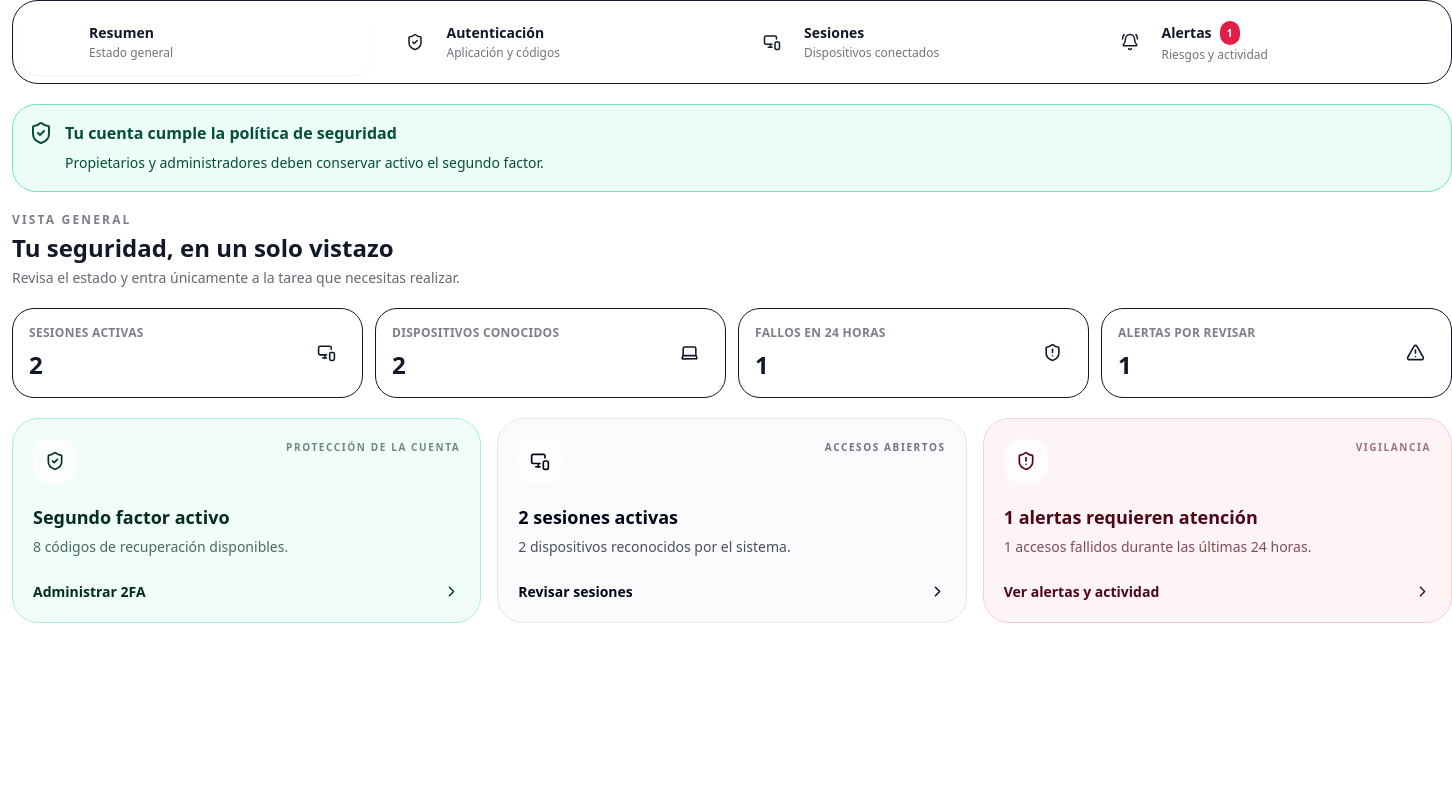
Scenario: Centro de seguridad administrativa Etapa 4 › muestra sesiones, alertas e historial y protege el cierre con reautenticación
The image size is (1452, 810).
Expected: the heading "Tu seguridad, en un solo vistazo" is shown, [12, 231, 394, 264]
Click the button "Sesiones Dispositivos conectados".
click(911, 42)  # box [736, 9, 1086, 75]
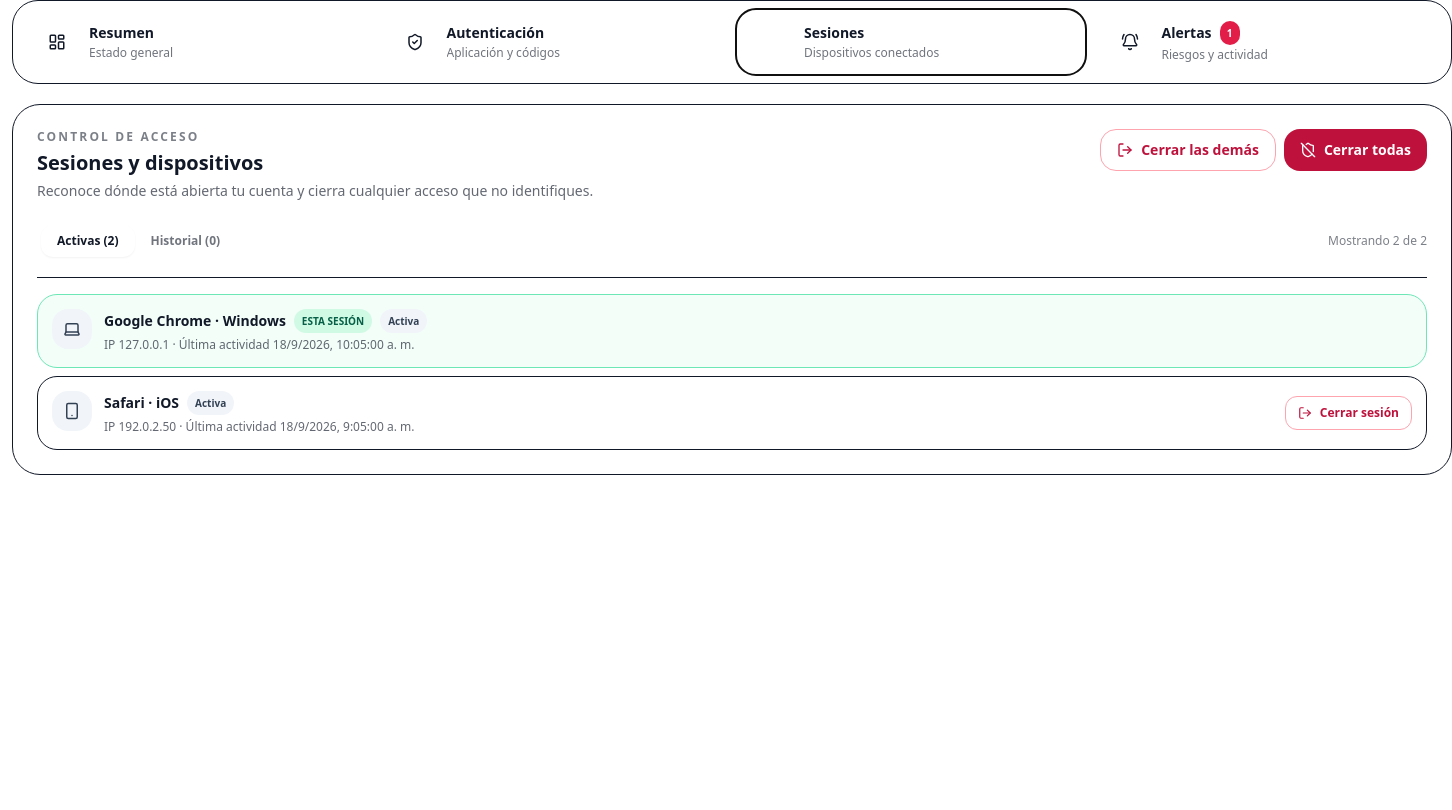
Expected: the heading "Sesiones y dispositivos" is shown, [37, 149, 263, 176]
Expected: the text "Safari · iOS" is shown, [104, 393, 179, 413]
Click the button "Cerrar sesión".
click(1348, 413)  # box [1285, 396, 1412, 430]
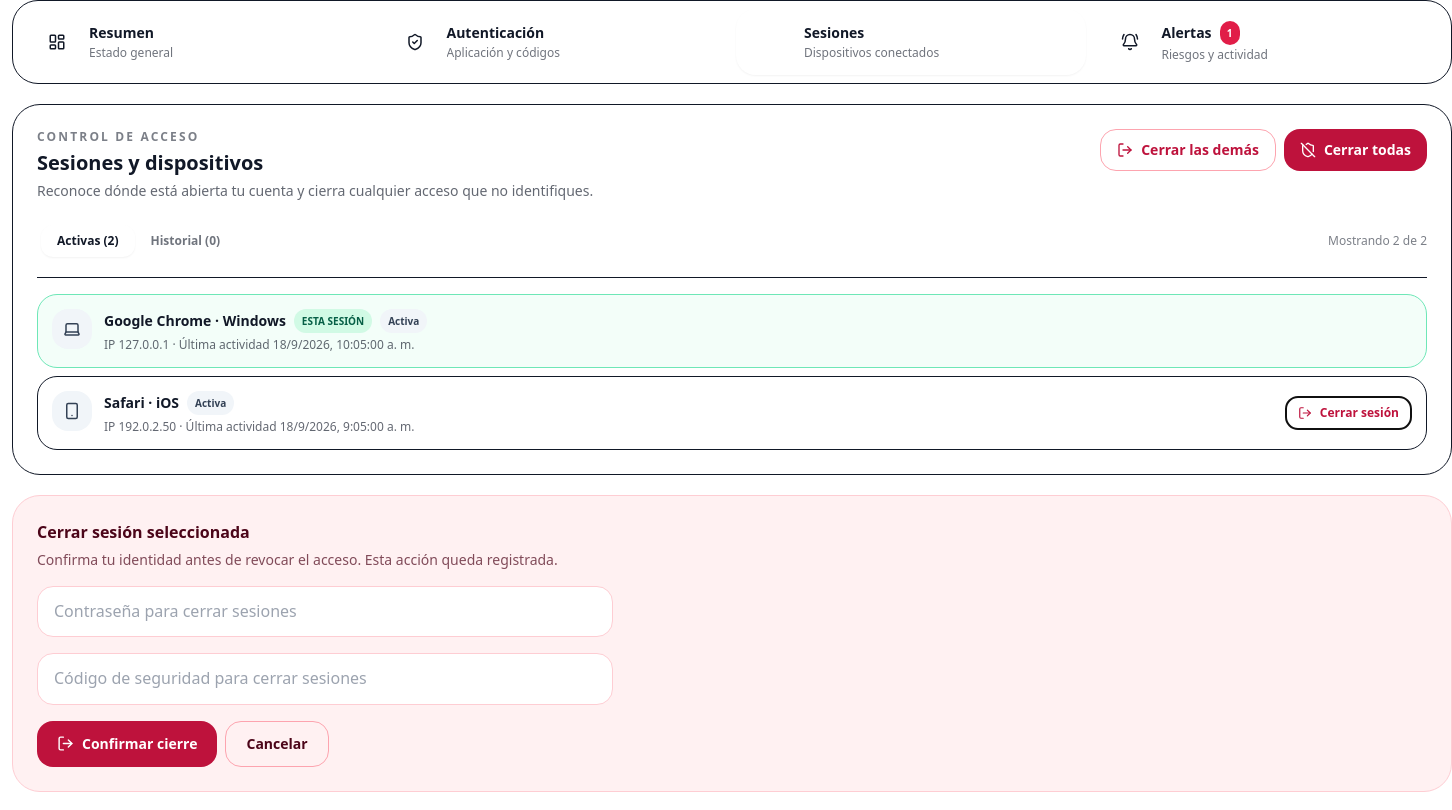
Type "Password!123" into the password field with placeholder "Contraseña para cerrar sesiones".
click(325, 611); type("Password!123")  # box [37, 586, 613, 637]
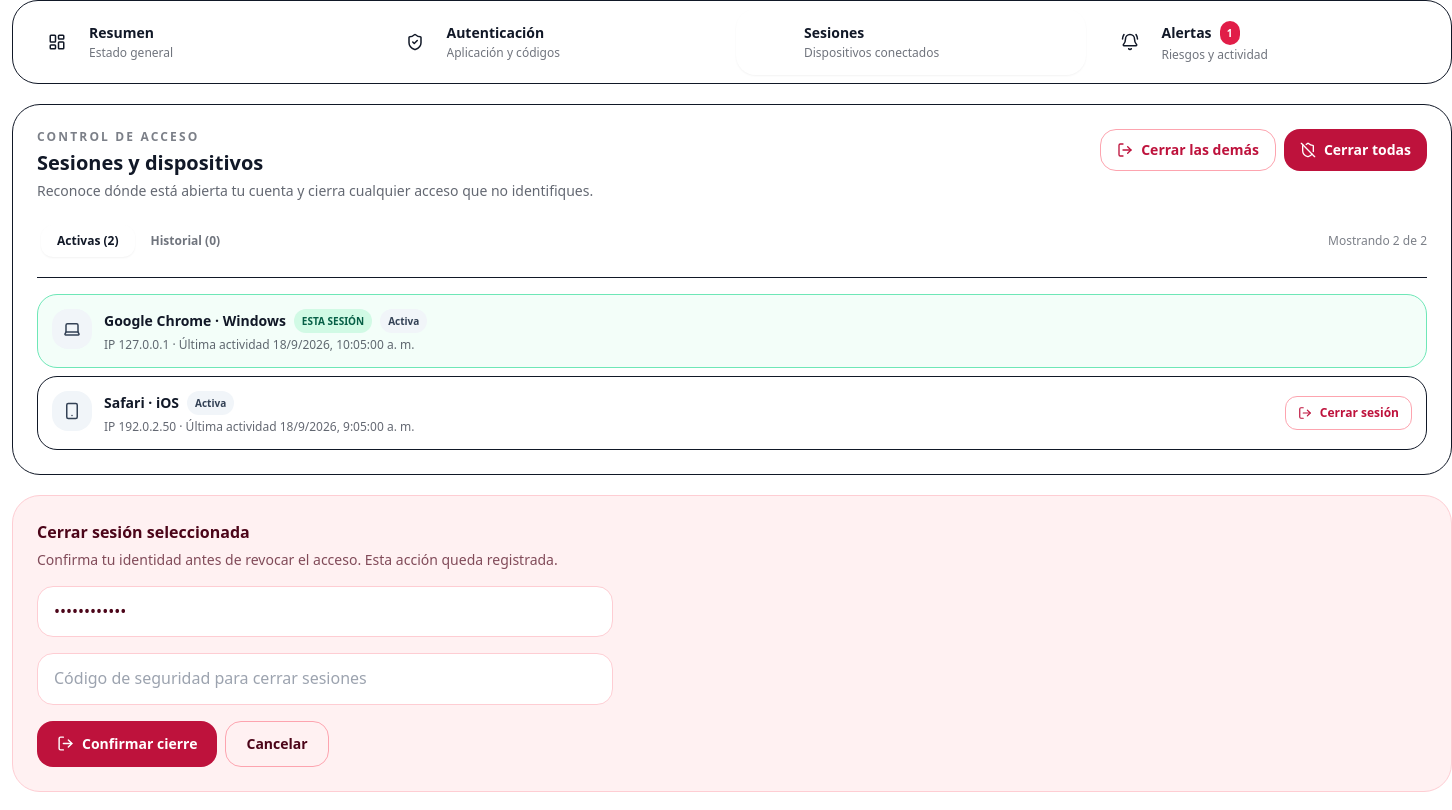
Type "123456" into the field with placeholder "Código de seguridad para cerrar sesiones".
click(325, 679); type("123456")  # box [37, 653, 613, 705]
Click the button "Confirmar cierre".
click(127, 744)  # box [37, 721, 218, 767]
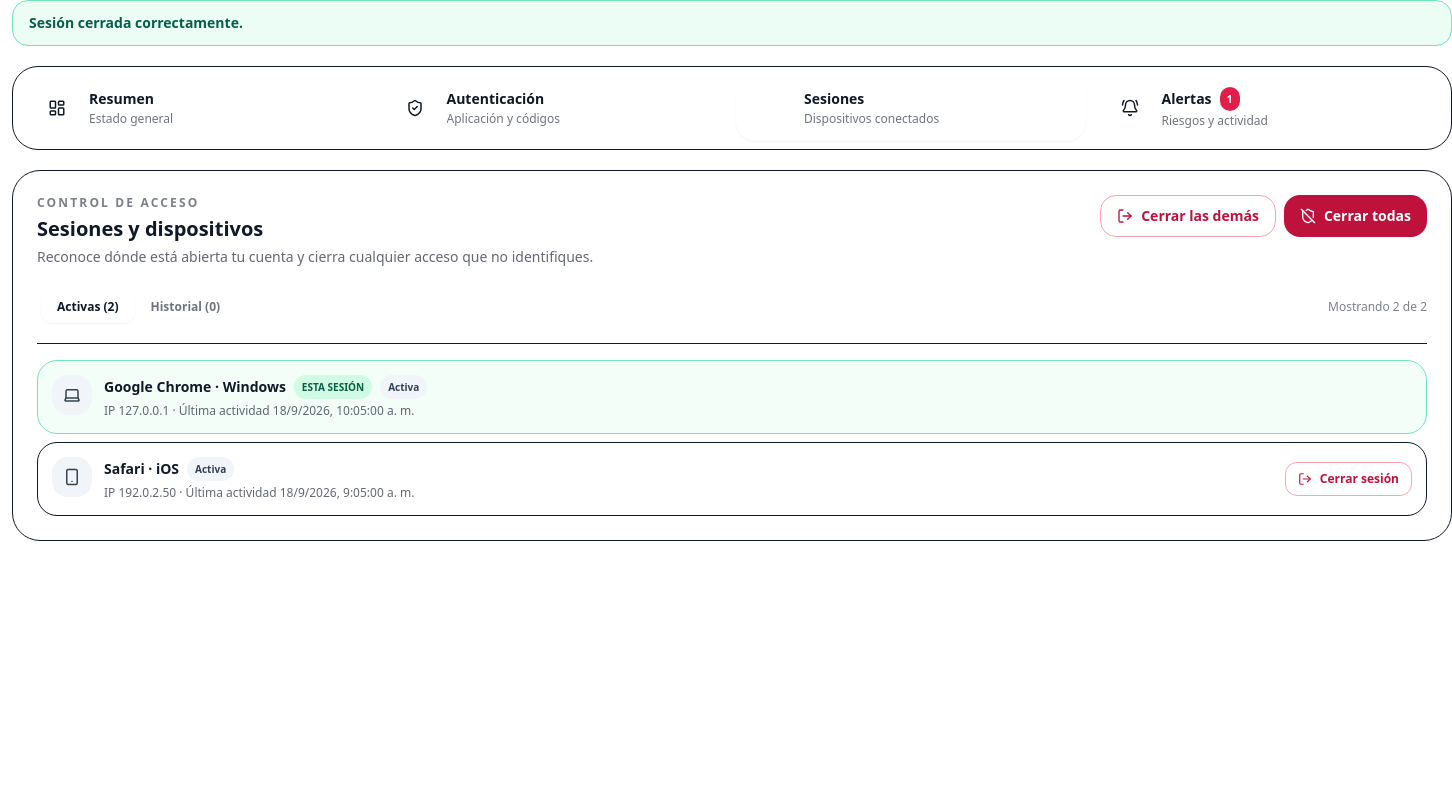
Click the button "Alertas 1 Riesgos y actividad".
click(1187, 98)  # box [1094, 75, 1443, 141]
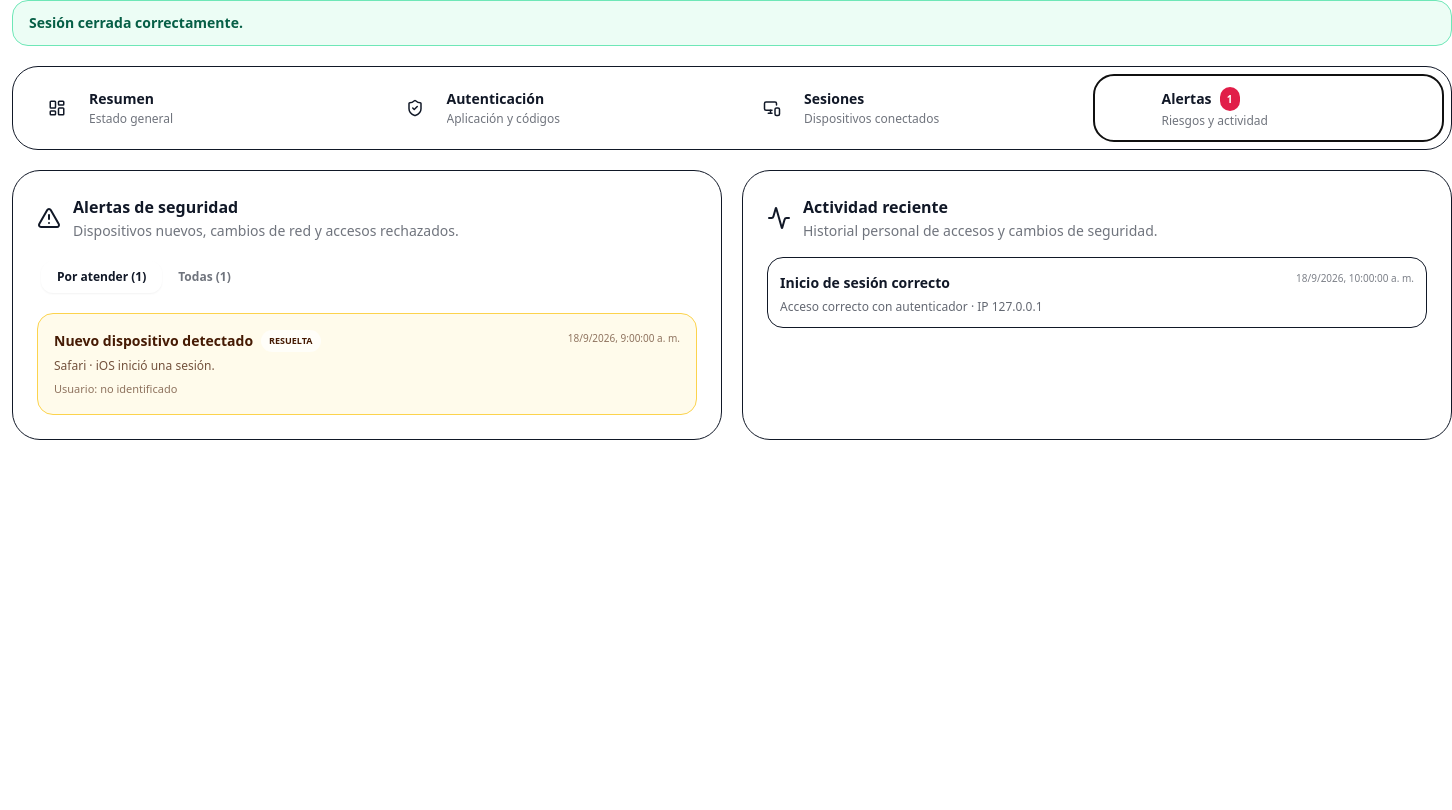
Expected: the text "Nuevo dispositivo detectado" is shown, [54, 331, 253, 351]
Expected: the text "Inicio de sesión correcto" is shown, [780, 273, 950, 292]
Click the button "Autenticación Aplicación y códigos".
click(553, 108)  # box [378, 75, 728, 141]
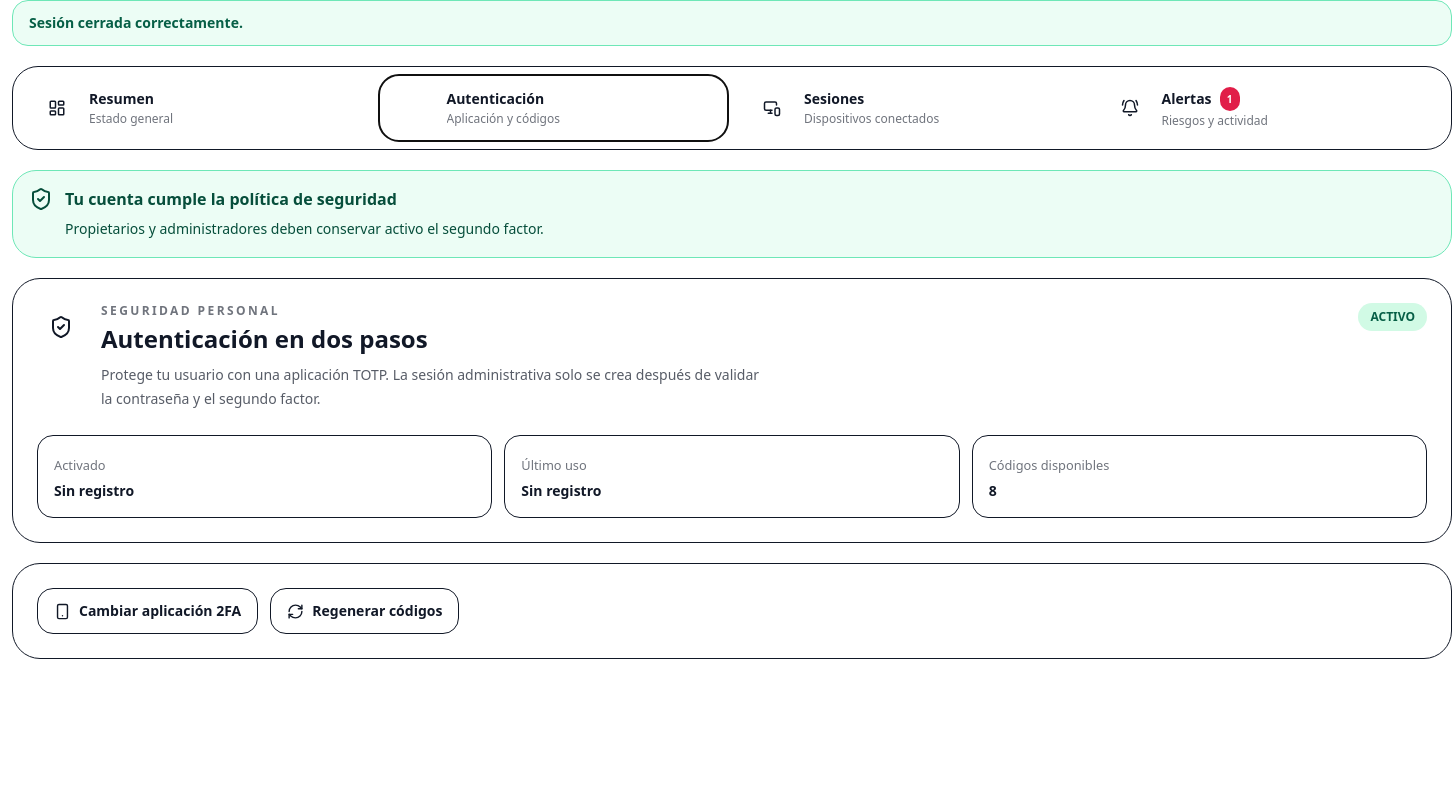
Expected: the button "Cambiar aplicación 2FA" is shown, [37, 588, 258, 634]
